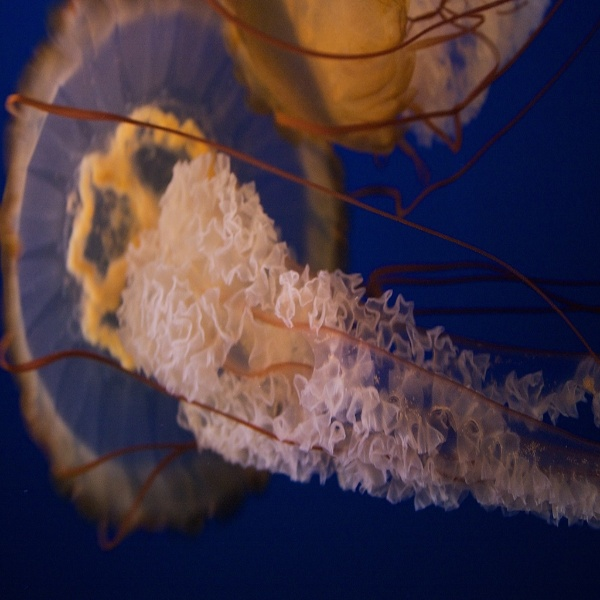Jellyfish: (0, 0, 599, 549)
